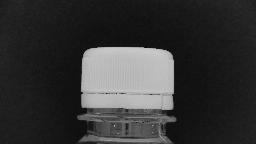Broken Ring: (154, 93, 170, 111)
